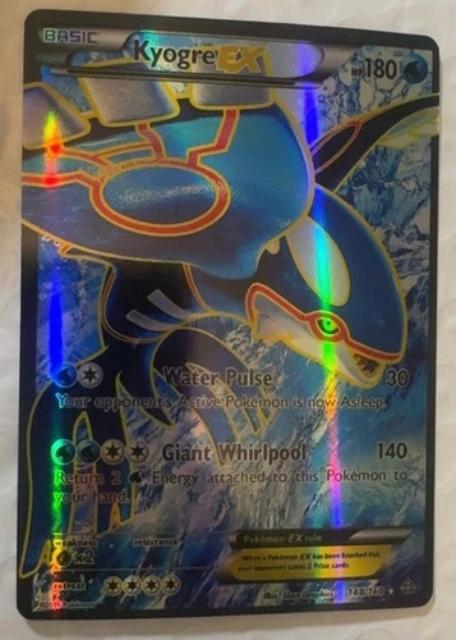Card: (13, 4, 444, 624)
Name: (126, 32, 274, 77)
